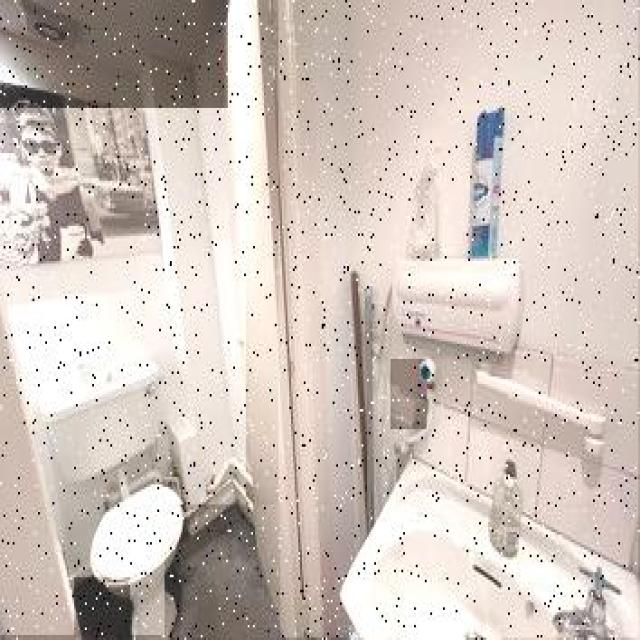Wall: (280, 0, 638, 637), (0, 13, 246, 635), (0, 0, 228, 108), (166, 505, 280, 640), (74, 579, 130, 637), (391, 360, 427, 429), (418, 403, 428, 414)
